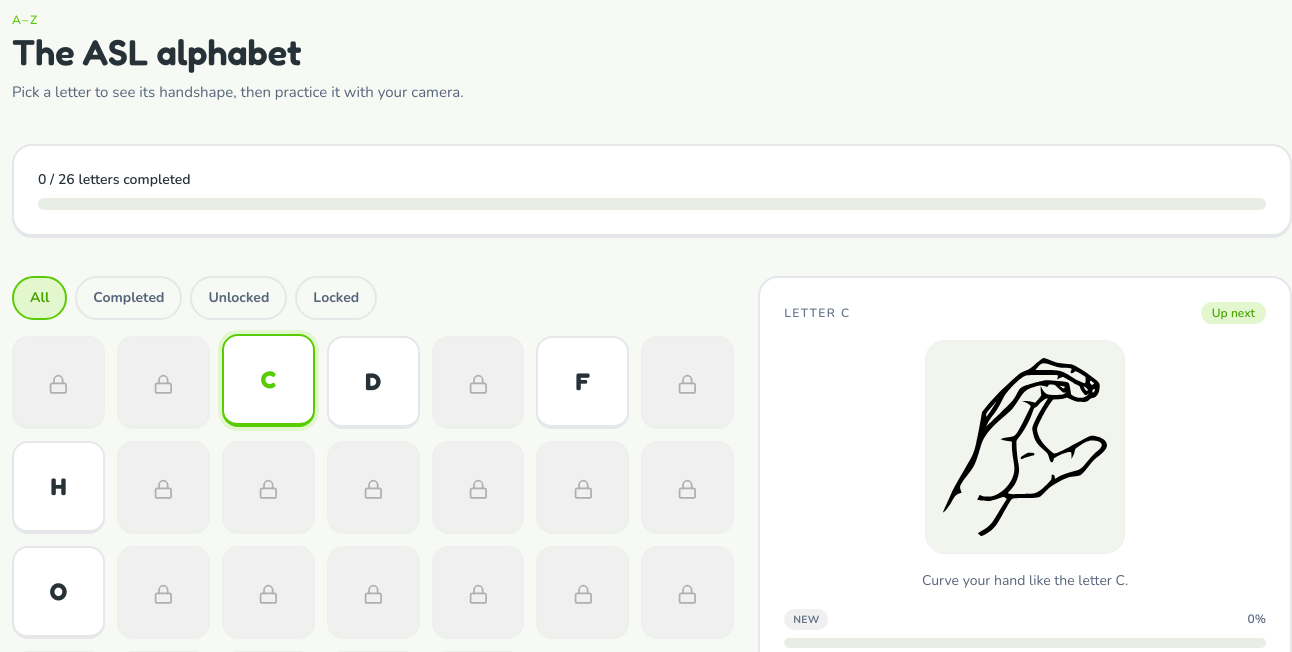
Test case: AlphabetPage › filters to completed letters and shows an empty state when none
Click the button "Completed". click: x=129, y=298
box: [75,276,182,320]
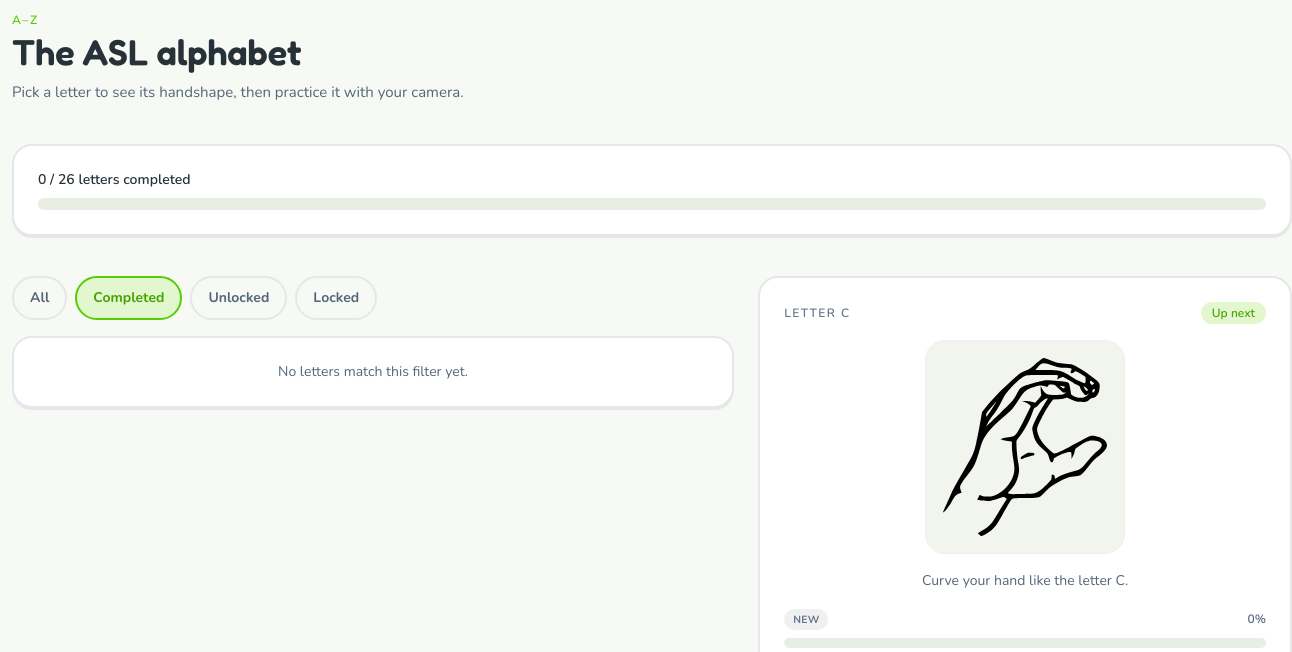
Expected: the text "No letters match this filter yet." is shown, [12,336,734,408]
